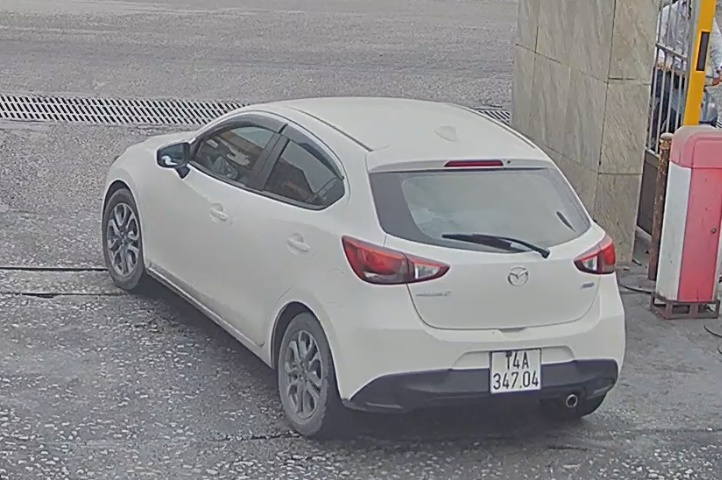vehicle plate: (486, 345, 548, 397)
